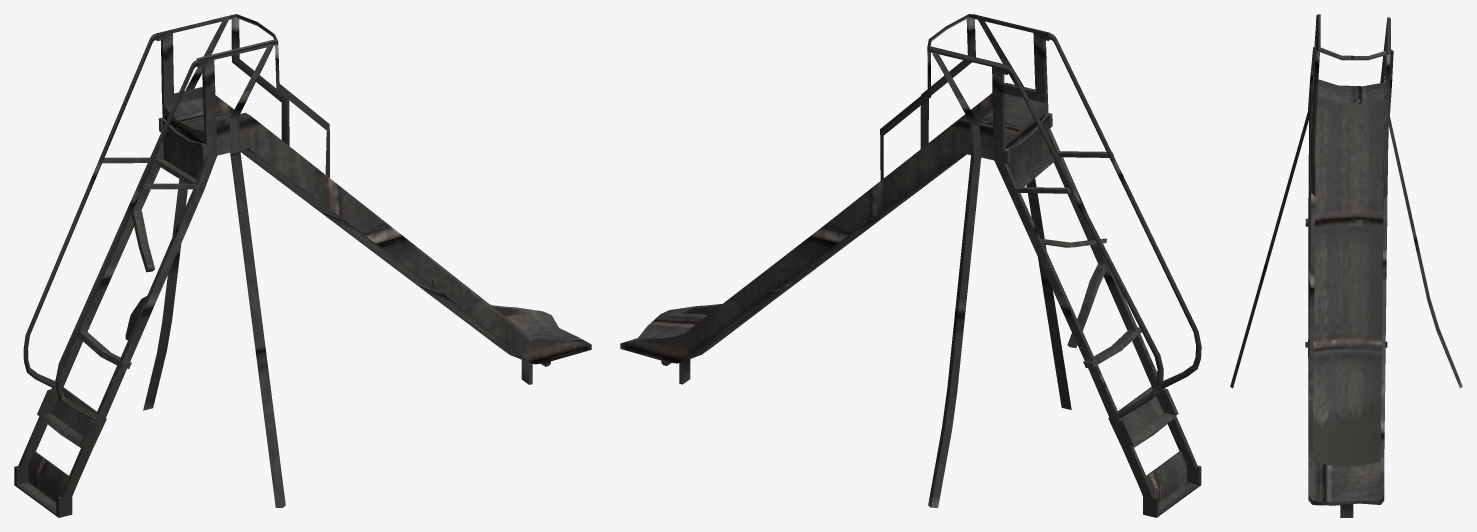
Rendered from Slide.fbx.
3 views of the same model, side by side, from view 1: azimuth 30°, elevation 25°; view 2: azimuth 150°, elevation 25°; view 3: azimuth 270°, elevation 25° (orthographic). The views are drawn at different scales.
Visible parts, largest first — view 1: Slide.001; view 2: Slide.001; view 3: Slide.001.
Part boxes in pixels (box(x1,y1,x2,y2)): Slide.001: box(14, 14, 591, 517); Slide.001: box(620, 14, 1201, 517); Slide.001: box(1230, 14, 1462, 517).
Size of the model in its own units: 3.97 by 2.96 by 1.74.
1 material, 1 textured.
